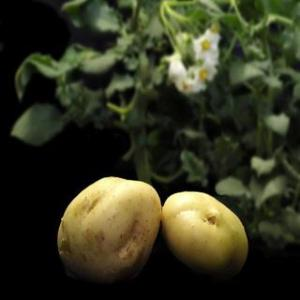potato: (57, 176, 161, 278), (161, 191, 249, 269)
